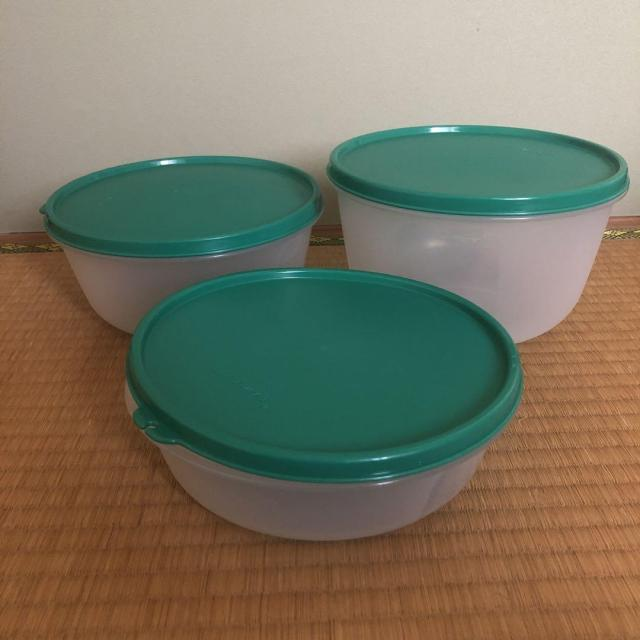plastic: (119, 266, 522, 542), (327, 111, 622, 344), (37, 150, 321, 332)
